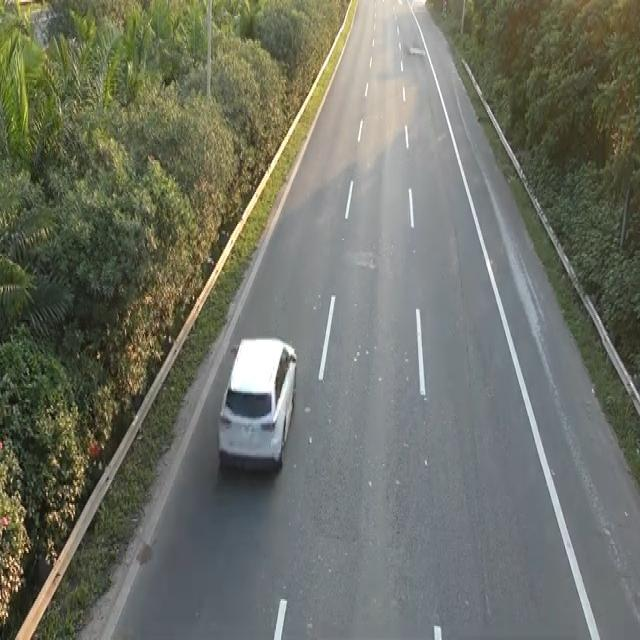car: (215, 332, 298, 474)
